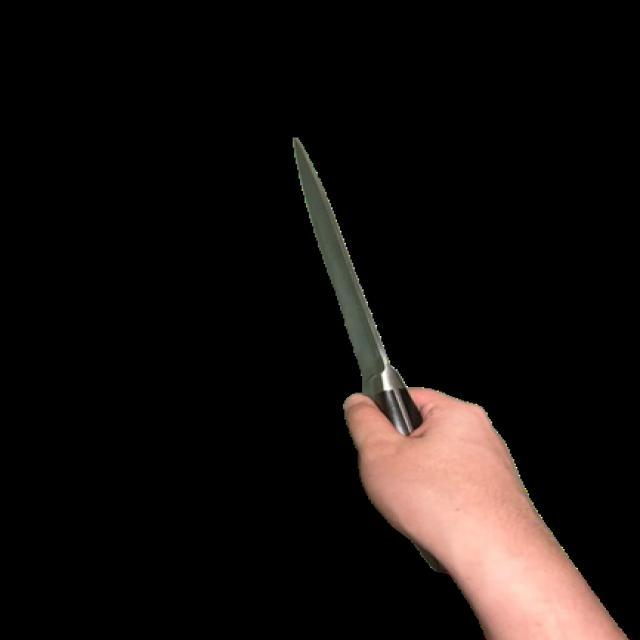knife: (281, 103, 420, 442)
